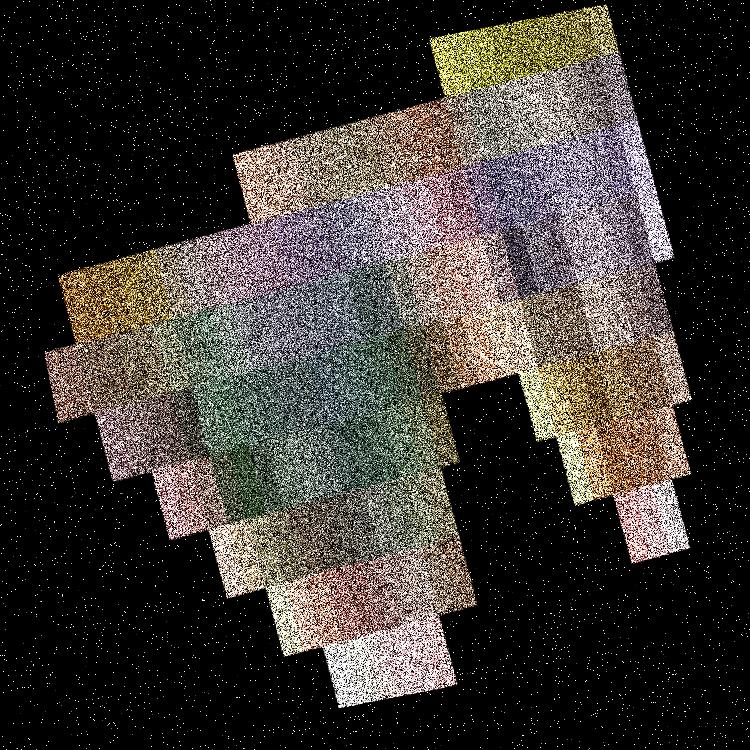Oculos: (200, 0, 724, 749)
